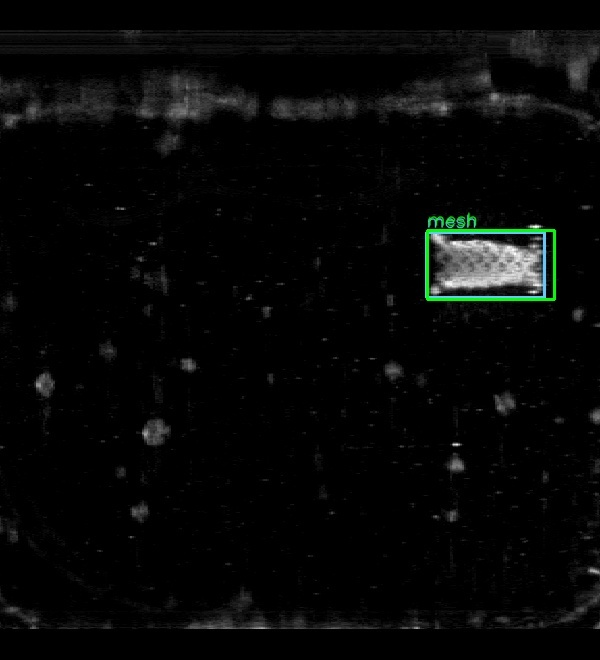mesh: (426, 232, 544, 297)
